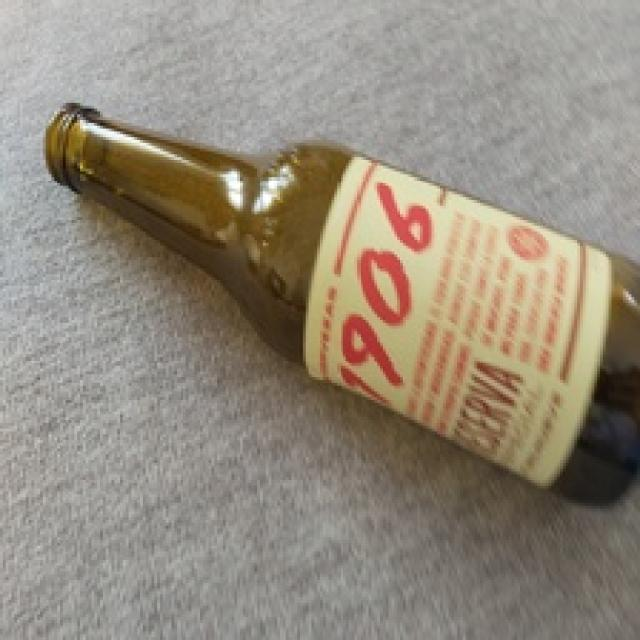Glass: (45, 95, 640, 511)
